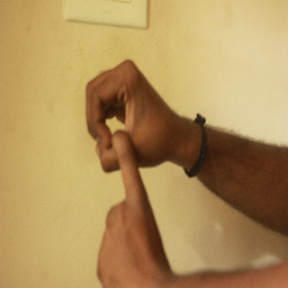Q: (81, 56, 190, 288)
